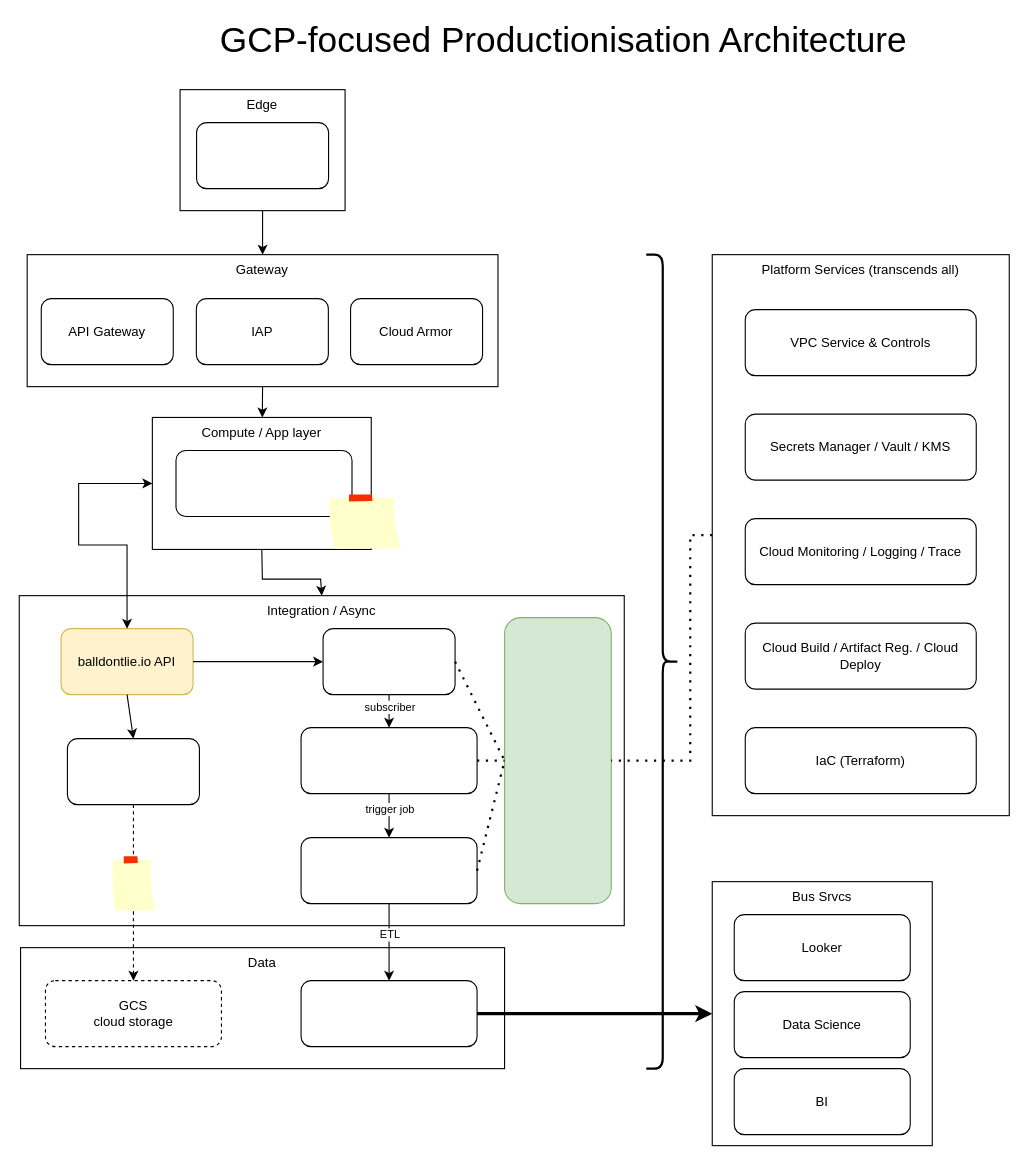
The diagram is 1029 pixels wide and 1165 high, and some of its shapes have lost their labels. The shapes that lost their labels are listed below. From the top down, each one's centre as x and y in pixels, then its label:
(x=262, y=155): balldontlie.io Client
(x=263, y=482): Cloud Run: nba-api-msrvc
(x=364, y=521): Dockerised app
(x=388, y=661): pub/sub hydration
(x=132, y=771): Redis memorystore caching
(x=388, y=760): Cloud Run: nba-worker
(x=557, y=760): Cloud Composer Airflow
(x=132, y=883): raw storage / bkp
(x=388, y=870): DataFlow beam
(x=388, y=1013): BigQuery warehousing
